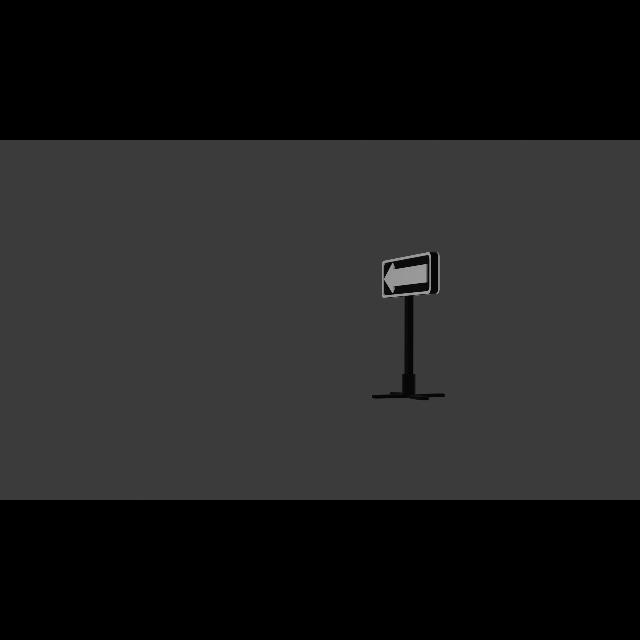sign_oneway_left: (382, 252, 442, 299)
